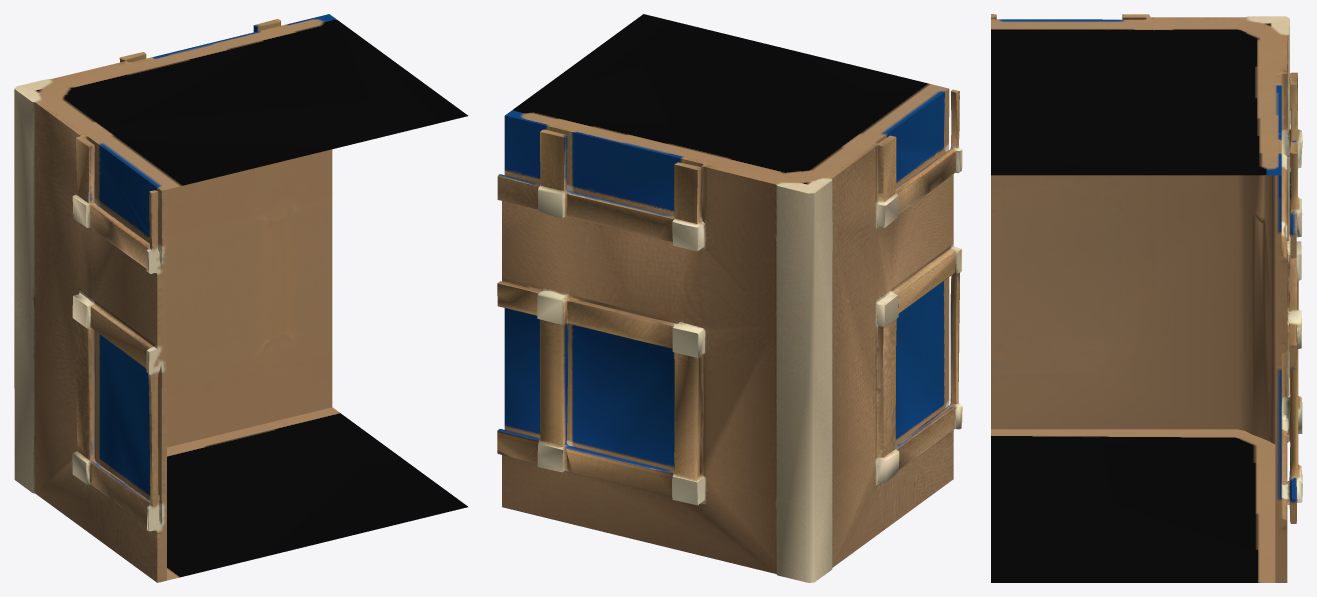
The model's file is 7-upper-walls-back-left.fbx.
3 renders of one model, left to right at view 1: azimuth 30°, elevation 25°; view 2: azimuth 150°, elevation 25°; view 3: azimuth 270°, elevation 25°, orthographic. The views are drawn at different scales.
Visible parts, largest first — view 1: upper-walls-back-left; view 2: upper-walls-back-left; view 3: upper-walls-back-left.
Part boxes in pixels (box(x1,y1,x2,y2)): upper-walls-back-left: box(14, 14, 468, 582); upper-walls-back-left: box(497, 14, 962, 582); upper-walls-back-left: box(991, 14, 1302, 582).
Size of the model in its own units: 4751 by 5542 by 3842.
1 material, 1 textured.
